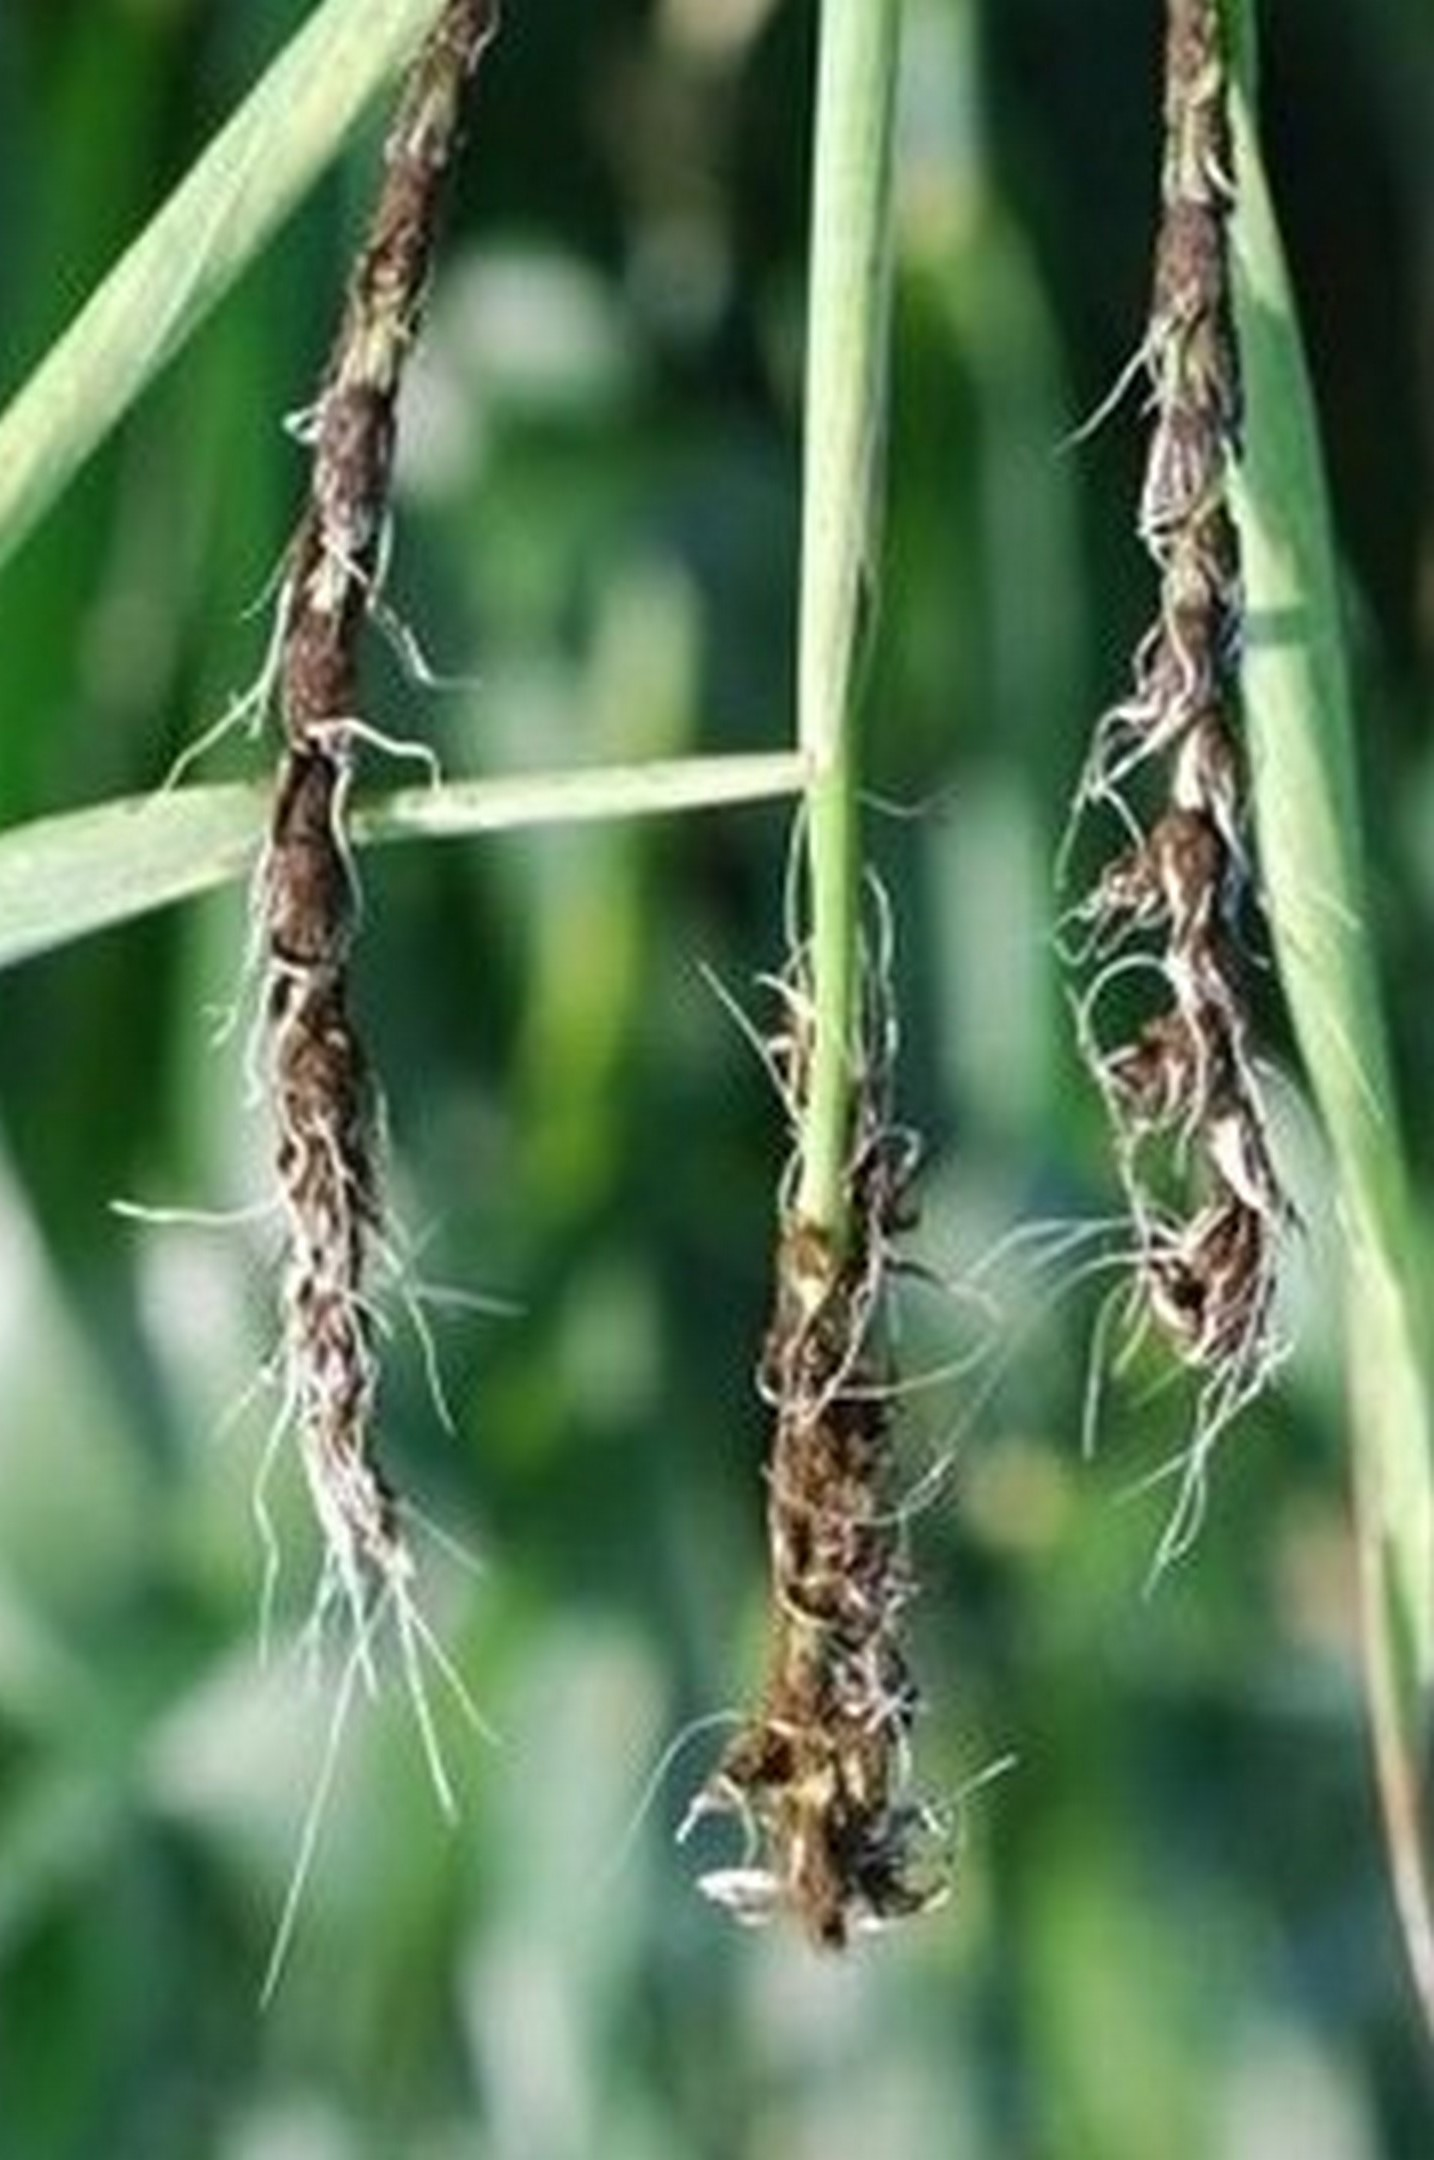Wheat Loose Smut: (226, 22, 519, 1629), (1074, 149, 1330, 1442), (703, 918, 997, 1990)
